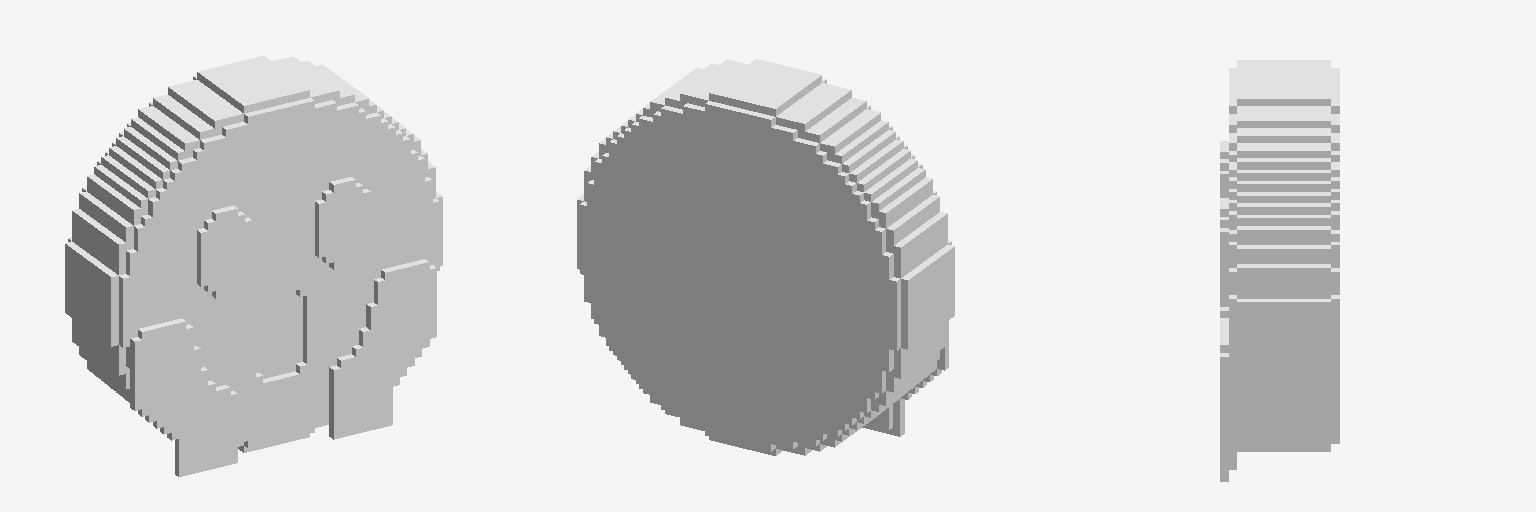
The model's file is SpookyHyogen.obj.
3 views of the same model, side by side, from view 1: azimuth 30°, elevation 25°; view 2: azimuth 150°, elevation 25°; view 3: azimuth 270°, elevation 25° (orthographic).
Bounding box in the file's own units: 45 × 45 × 14.